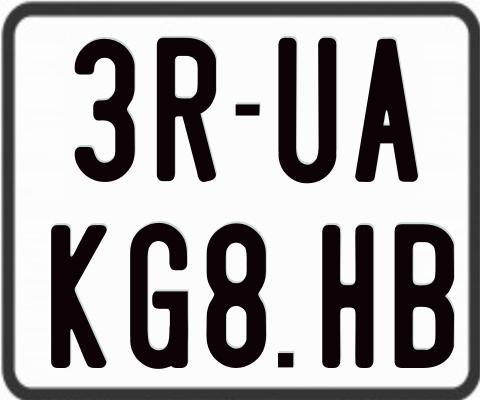3: (74, 37, 136, 181)
8: (205, 222, 265, 370)
A: (352, 39, 419, 183)
B: (393, 222, 456, 370)
G: (130, 223, 194, 375)
H: (322, 224, 374, 367)
K: (48, 223, 107, 366)
R: (157, 36, 222, 182)
U: (275, 37, 337, 187)
